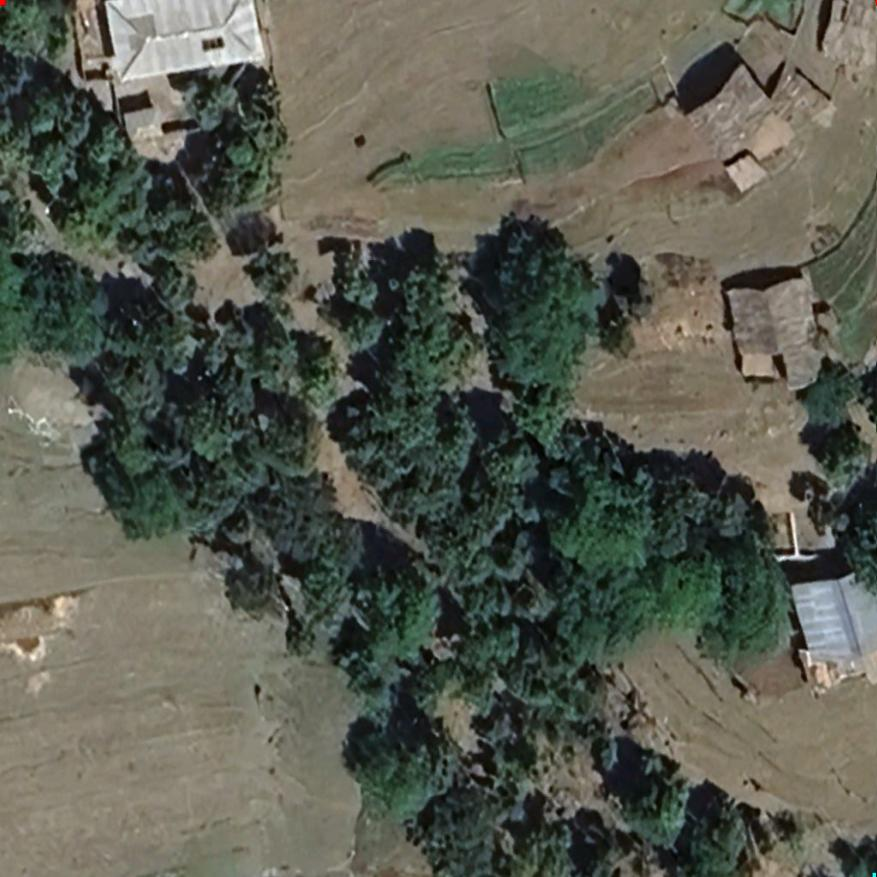Solarpanel: (198, 35, 228, 55)
